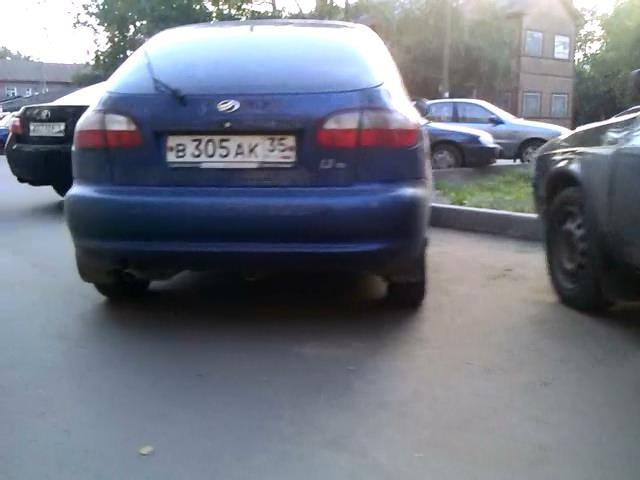car license plate: (166, 133, 299, 169), (29, 121, 67, 136)
